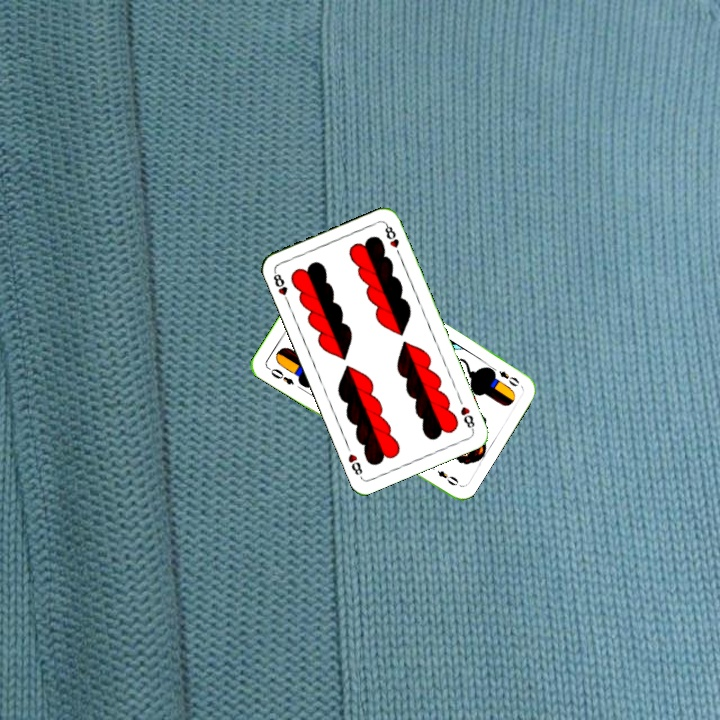EO: (486, 362, 522, 389), (264, 363, 297, 388)
H8: (269, 267, 292, 306), (456, 402, 477, 433)
